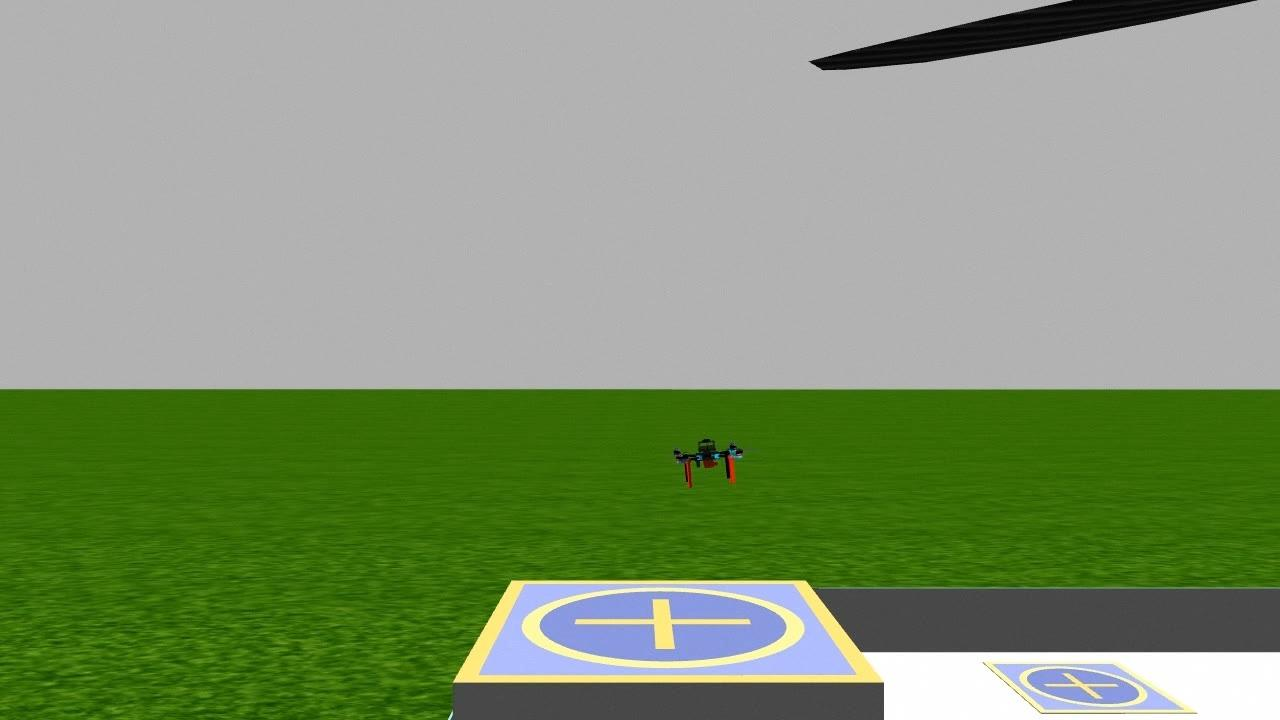UAV: (660, 421, 756, 502)
